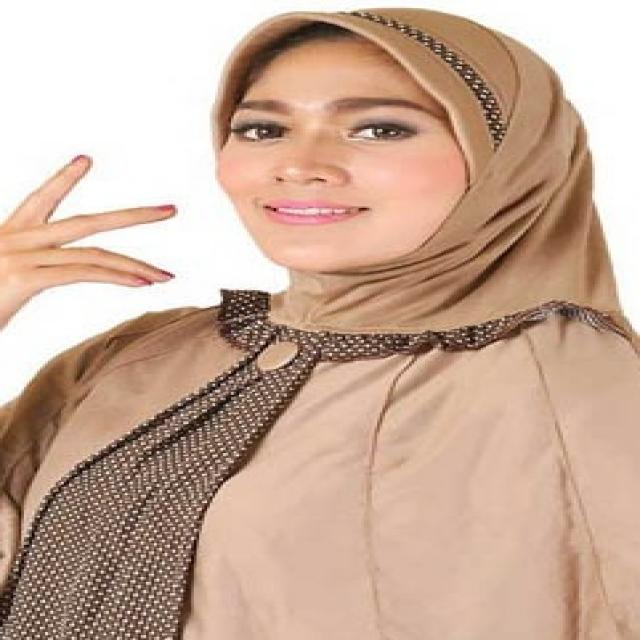head: (194, 4, 573, 274)
